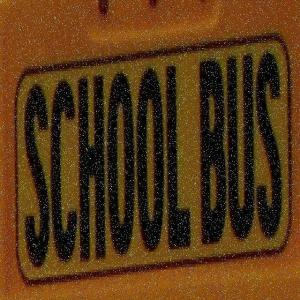Plate: (9, 15, 296, 291)
